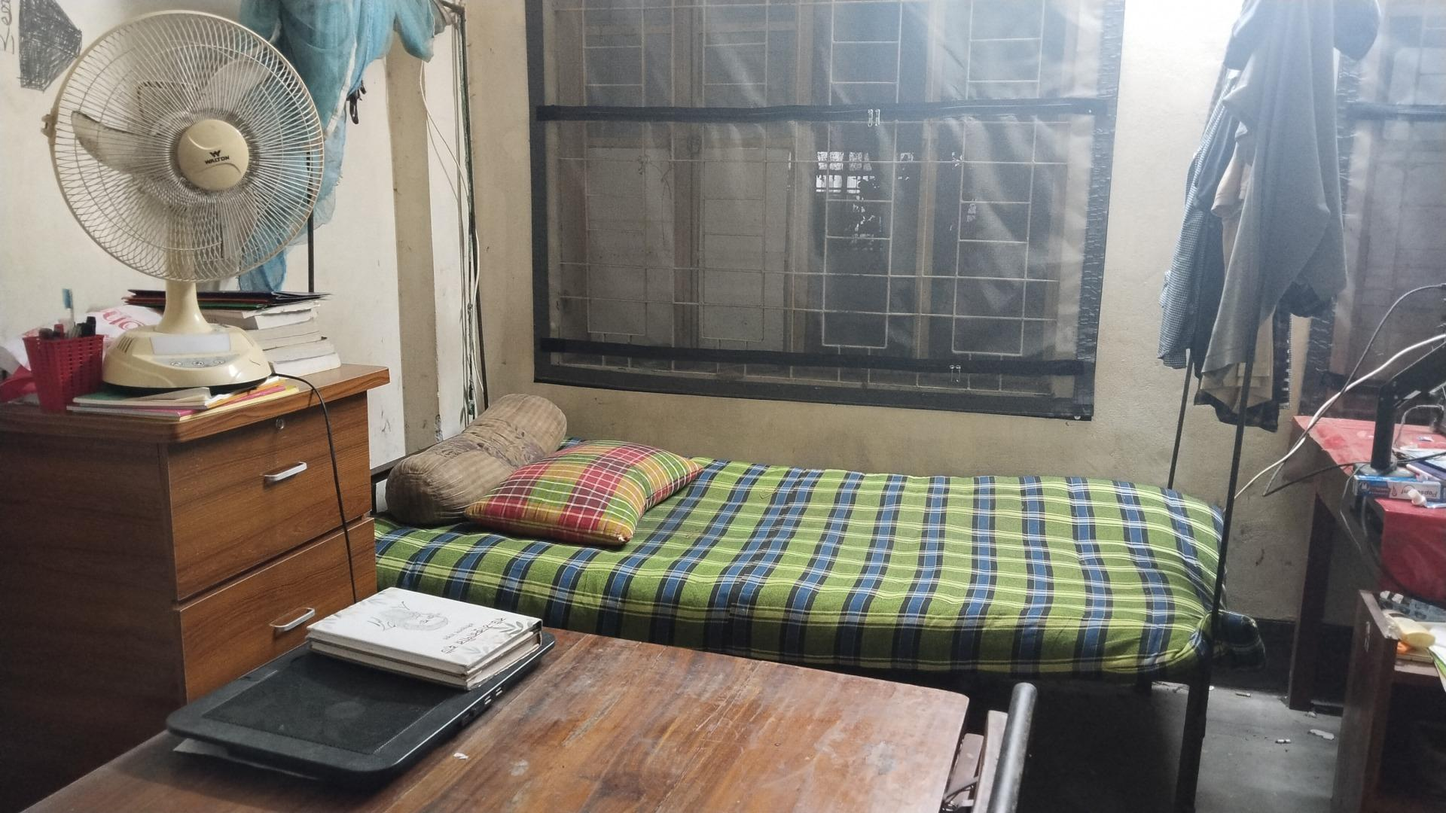Book: (307, 589, 545, 690)
Fan: (56, 16, 329, 388)
Pillow: (467, 439, 706, 547)
Window: (538, 2, 686, 361), (932, 3, 1057, 383), (809, 1, 928, 375), (690, 2, 809, 371)
